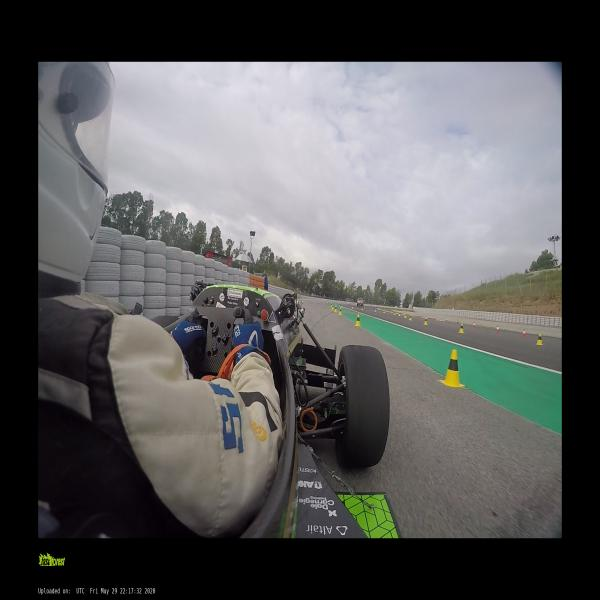orange_cone: (521, 329, 526, 338), (495, 326, 499, 334), (472, 322, 476, 328), (318, 300, 320, 304), (326, 302, 328, 304)
yellow_cone: (440, 350, 465, 387), (536, 333, 544, 346), (355, 314, 361, 327), (458, 323, 464, 333), (423, 318, 427, 325), (338, 308, 342, 315), (408, 315, 412, 320), (334, 306, 337, 312), (331, 305, 334, 310), (398, 312, 401, 316), (404, 313, 406, 318), (330, 303, 332, 308), (361, 306, 363, 310), (393, 311, 395, 315), (383, 310, 385, 313), (375, 308, 376, 312), (352, 305, 353, 308), (341, 304, 342, 307)
